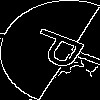P: (25, 25, 99, 75)
